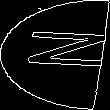N_E: (5, 33, 105, 77)
